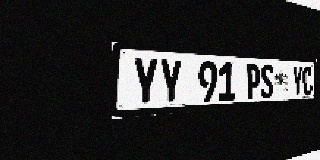1: (218, 62, 235, 101)
9: (199, 61, 217, 102)
C: (303, 66, 312, 96)
P: (246, 63, 260, 99)
S: (261, 64, 273, 98)
Y: (132, 57, 158, 107), (159, 59, 182, 105), (292, 66, 303, 96)
